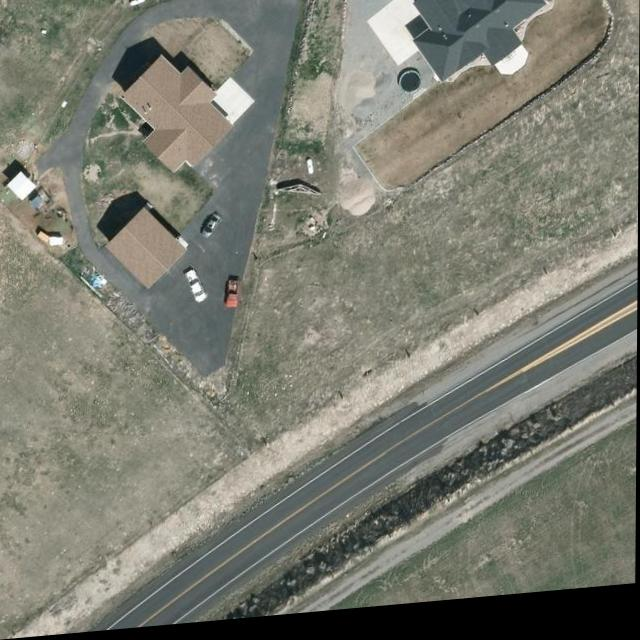vehicle: (182, 271, 209, 307), (197, 216, 226, 245), (225, 283, 243, 313)
